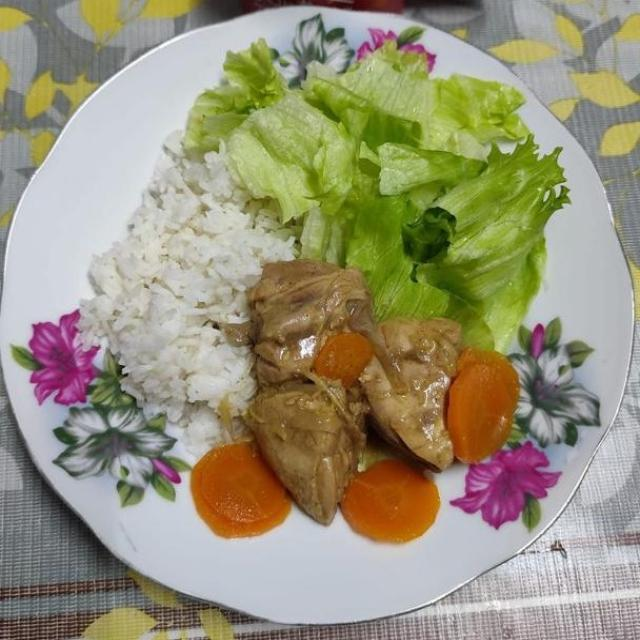Chicken: (221, 252, 467, 531)
Plate: (0, 11, 623, 620)
Rice: (75, 143, 299, 453)
Vegetables: (171, 35, 572, 465), (187, 437, 292, 543), (334, 458, 442, 547), (305, 336, 381, 386)
